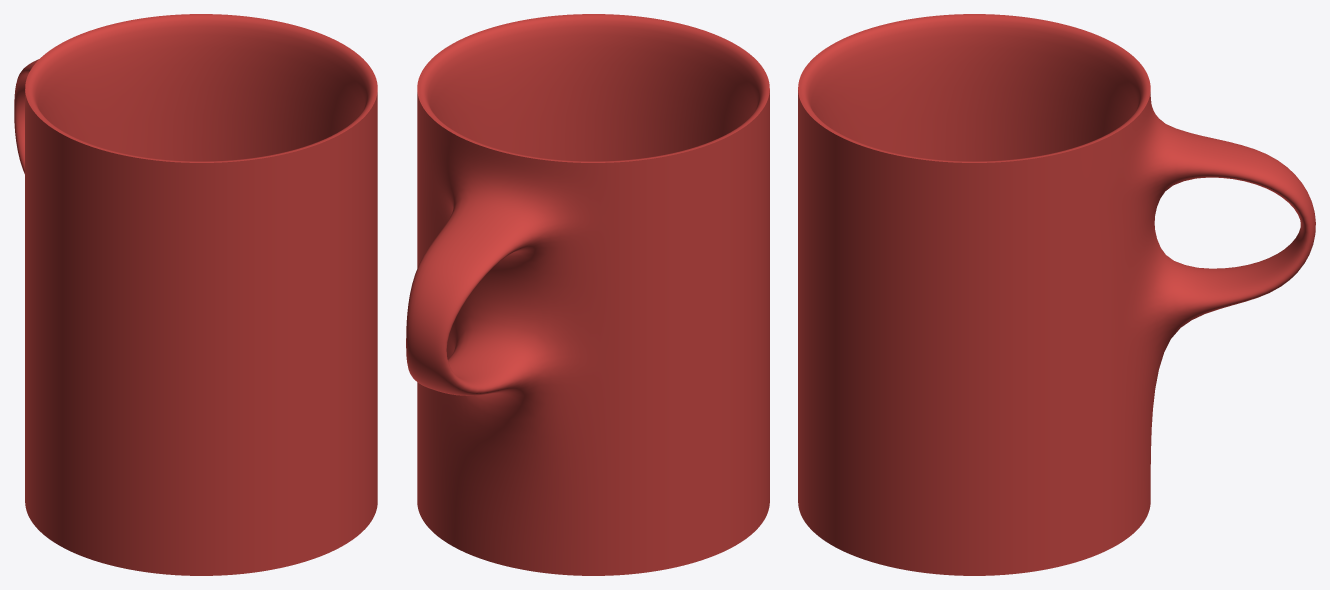
File: hrnček.fbx
3 renders of one model, left to right at view 1: azimuth 30°, elevation 25°; view 2: azimuth 150°, elevation 25°; view 3: azimuth 270°, elevation 25°, orthographic.
Parts seen in each view (by area): view 1: Segmentovaný_povrch_1; view 2: Segmentovaný_povrch_1; view 3: Segmentovaný_povrch_1.
Boxes of the visible parts, x1=… form: Segmentovaný_povrch_1: x1=14, y1=14, x2=377, y2=575; Segmentovaný_povrch_1: x1=406, y1=14, x2=769, y2=575; Segmentovaný_povrch_1: x1=798, y1=14, x2=1315, y2=575.
Bounding box in the file's own units: 7.74 × 10 × 11.37.
